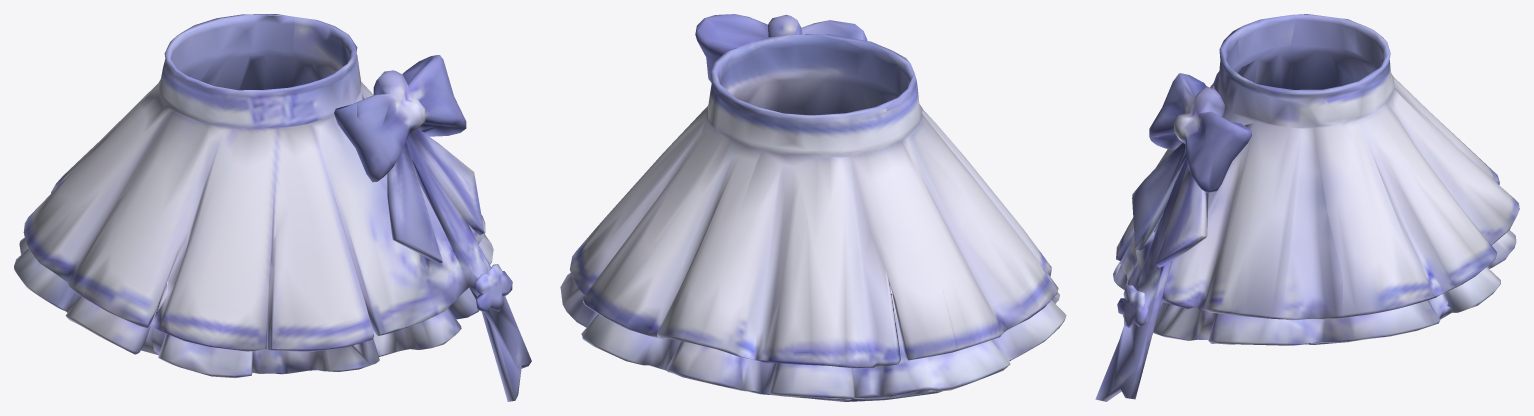
File: vay1-mwtgrjedcro.glb
3 renders of one model, left to right at view 1: azimuth 30°, elevation 25°; view 2: azimuth 150°, elevation 25°; view 3: azimuth 270°, elevation 25°, orthographic. The views are drawn at different scales.
Visible parts, largest first — view 1: node_0.001; view 2: node_0.001; view 3: node_0.001.
Part boxes in pixels (<box>): node_0.001: <box>14,14,531,401</box>; node_0.001: <box>560,14,1066,401</box>; node_0.001: <box>1095,14,1519,401</box>.
Bounding box in the file's own units: 0.3421 × 0.2449 × 0.3299.
Materials: 1 (1 with a texture image).
